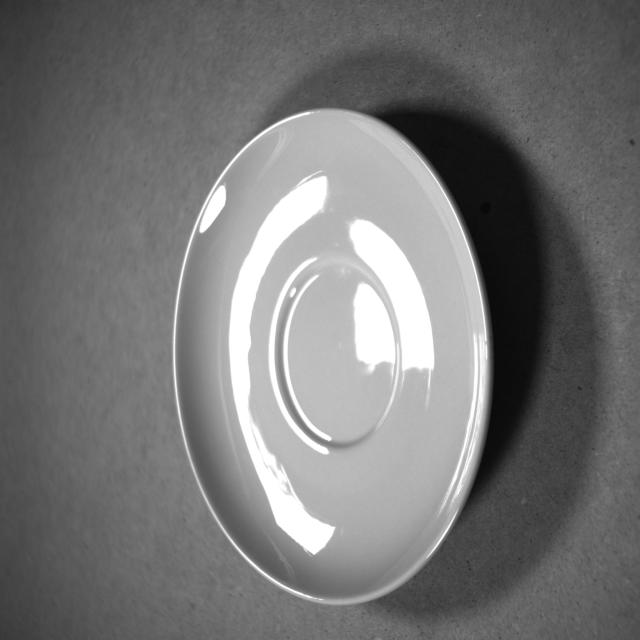plate: (175, 109, 491, 604)
